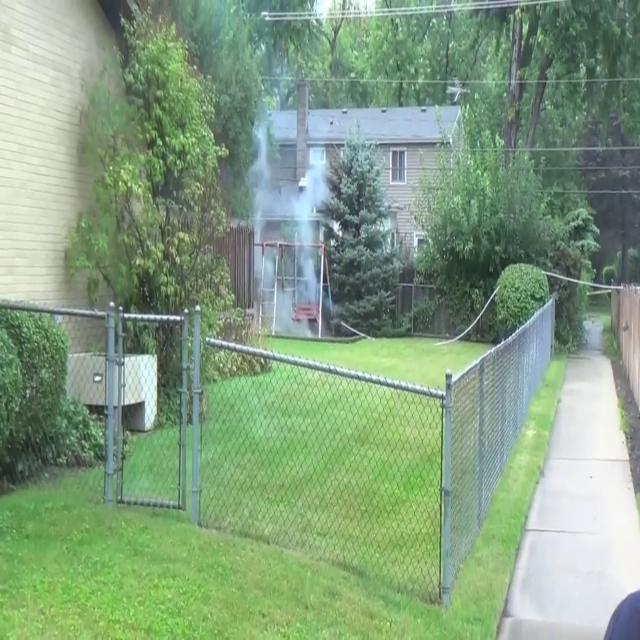Smoke: (245, 115, 336, 329)
